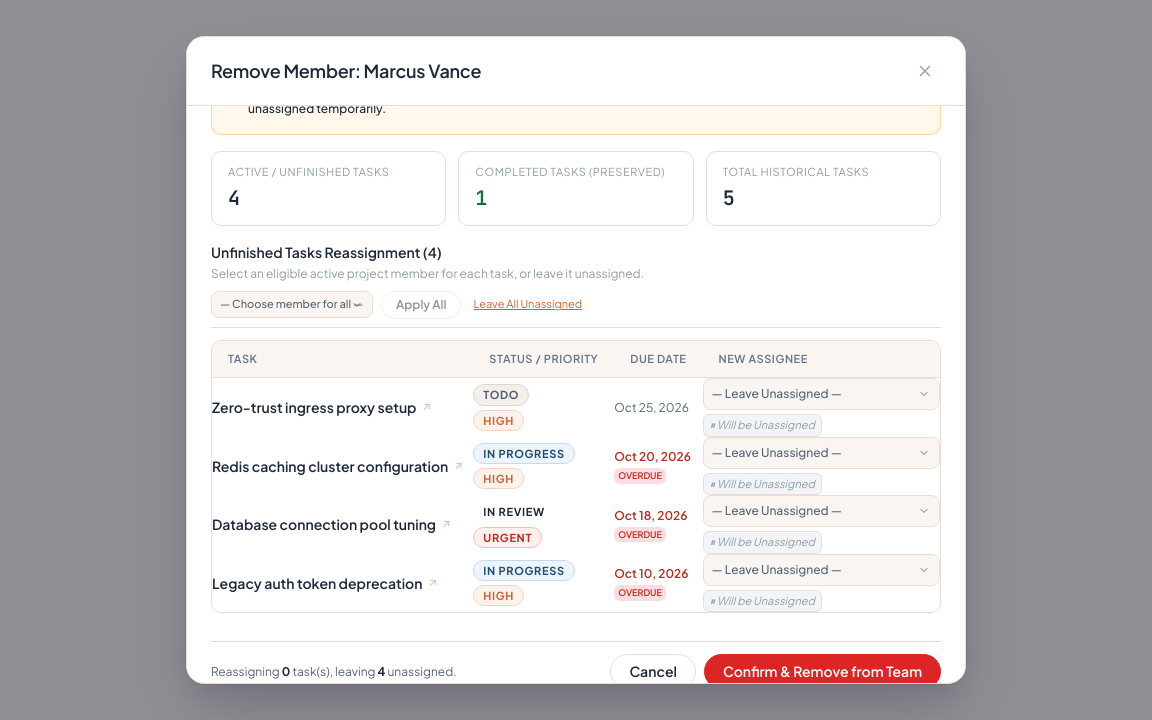
Test case: RemoveMemberConfirmModal UI Component › allows selecting replacement assignees and displays distinction between reassigned and unassigned
(page scrolled)
Expected: the text "⏸ Will be Unassigned" below "TODO" is shown, [710,418,815,431]
Step 1. Select "Sarah Chen (project lead)" in the dropdown named "Reassign task Zero-trust ingress proxy setup" → (821, 394), box [702,378,940,410]
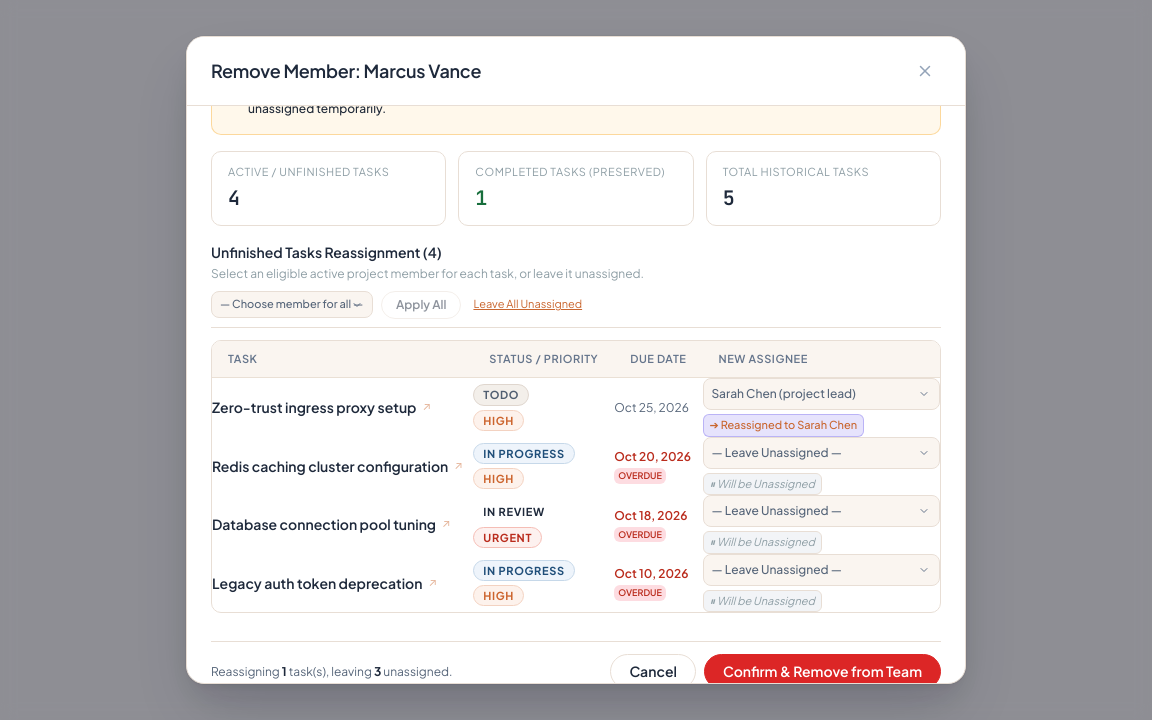
Expected: the text "➔ Reassigned to Sarah Chen" is shown, [702,414,864,437]
